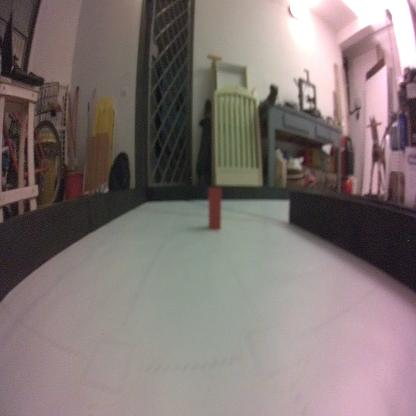red: (207, 186, 222, 232)
